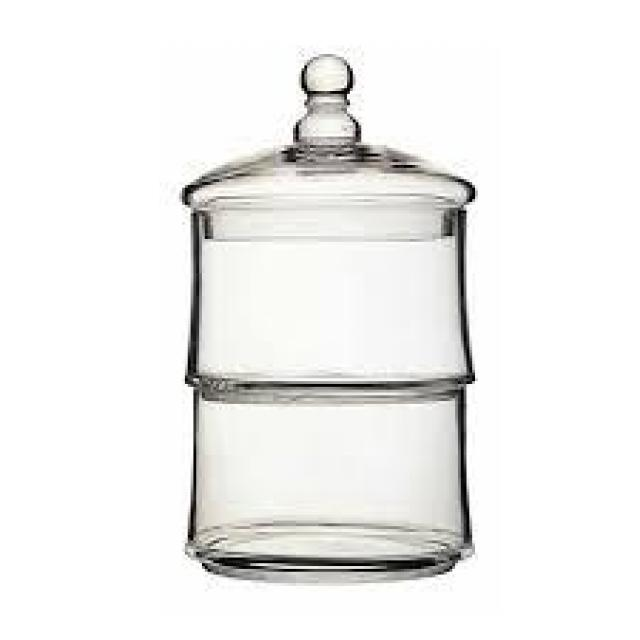non-organic waste: (169, 42, 491, 594)
